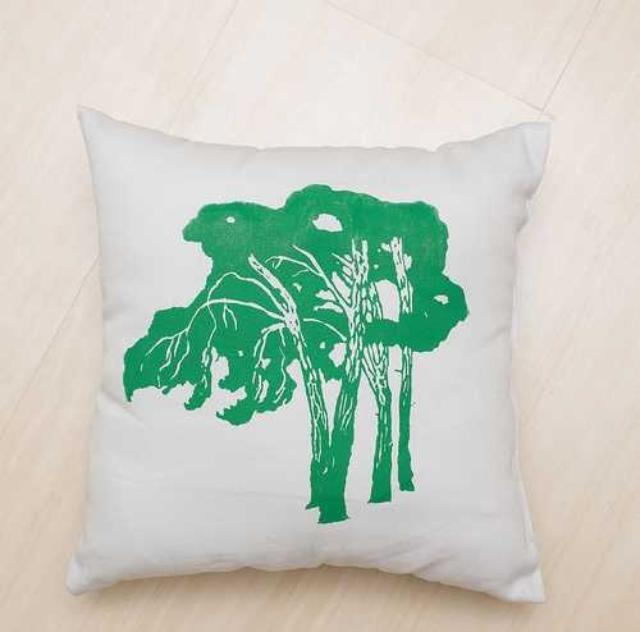pillow: (65, 103, 552, 603)
